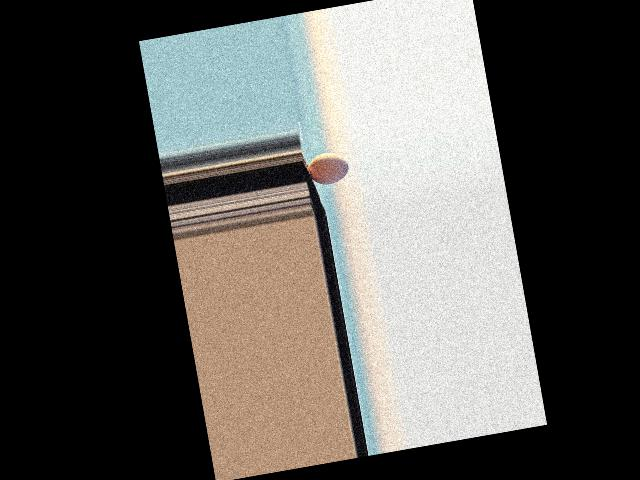egg: (306, 149, 351, 187)
